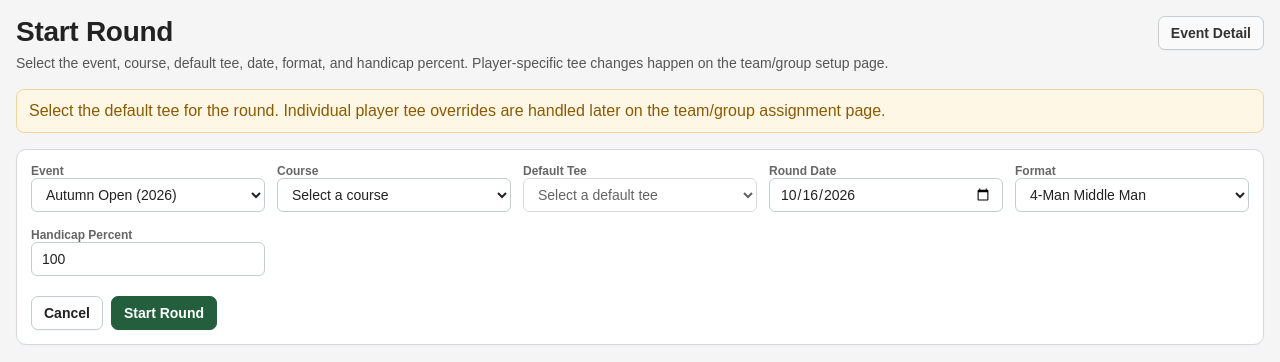
Test case: Round setup page characterization (before extraction) › forces zero handicap percent for scramble and restores 100 for another format
Expected: the dropdown labelled "Event" is shown, 31,178 -> 265,212
Select "Scramble" in the dropdown labelled "Format" at x=1132, y=195, box 1015,178 -> 1249,212
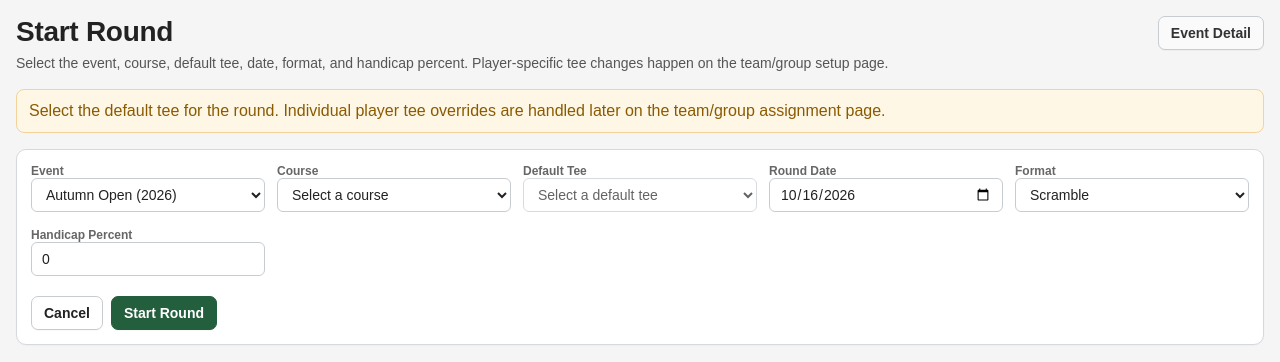
Result: the number field labelled "Handicap Percent" holds "0" at 31,242 -> 265,276
Result: the number field labelled "Handicap Percent" is disabled at 31,242 -> 265,276
Select "Stroke Play" in the dropdown labelled "Format" at x=1132, y=195, box 1015,178 -> 1249,212
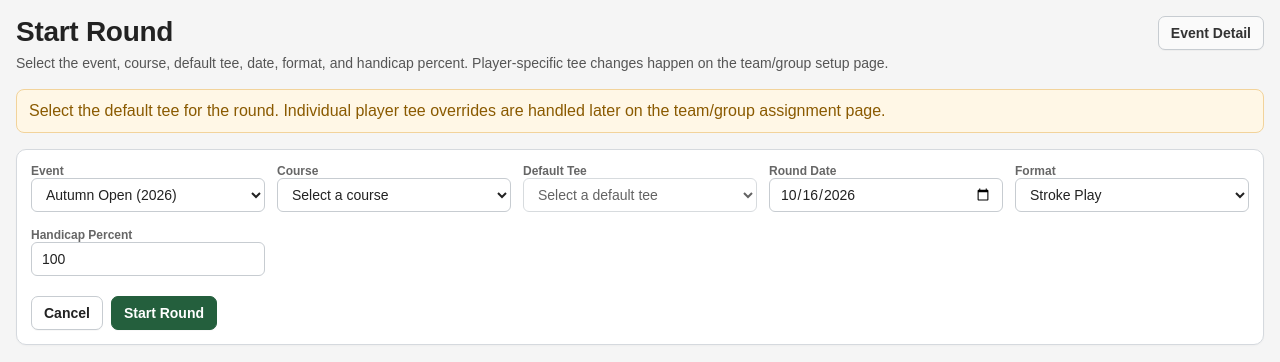
Result: the number field labelled "Handicap Percent" holds "100" at 31,242 -> 265,276
